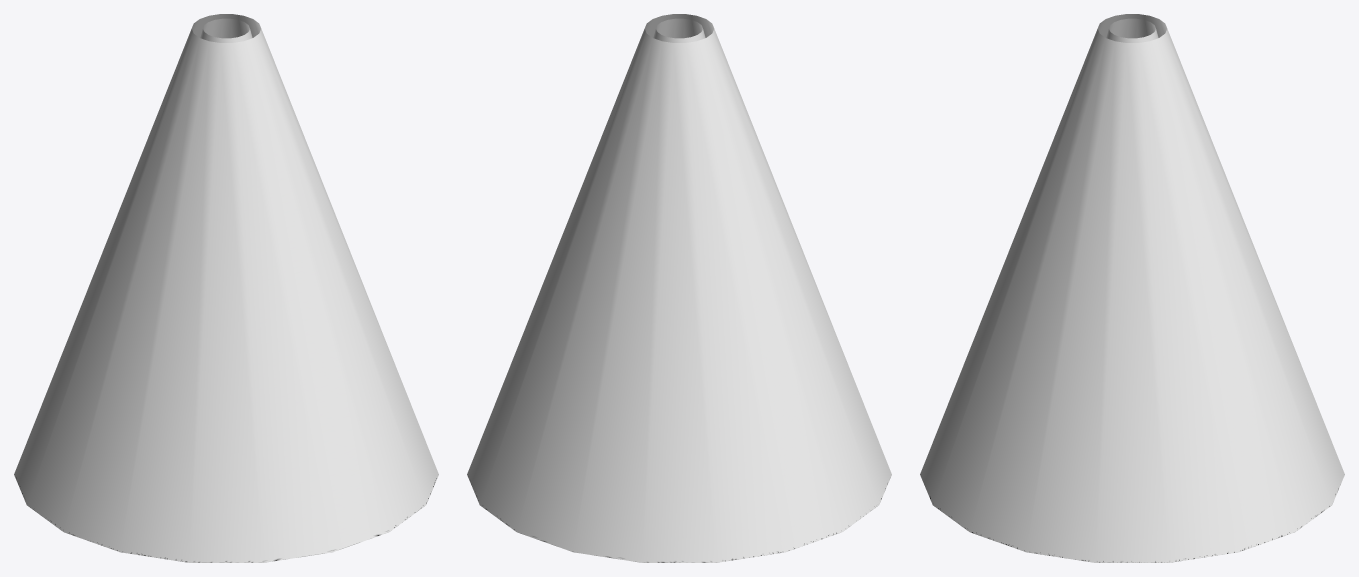
The model's file is LightCone.fbx.
The picture shows the model from 3 angles, left to right: view 1: azimuth 30°, elevation 25°; view 2: azimuth 150°, elevation 25°; view 3: azimuth 270°, elevation 25°; orthographic projection.
Visible parts, largest first — view 1: Cylinder; view 2: Cylinder; view 3: Cylinder.
Part boxes in pixels (x1,y1,x2,y2): Cylinder: (14, 14, 438, 562); Cylinder: (467, 14, 891, 562); Cylinder: (920, 14, 1344, 562).
Size of the model in its own units: 170 by 200 by 173.
Materials: 1 (1 with a texture image).
